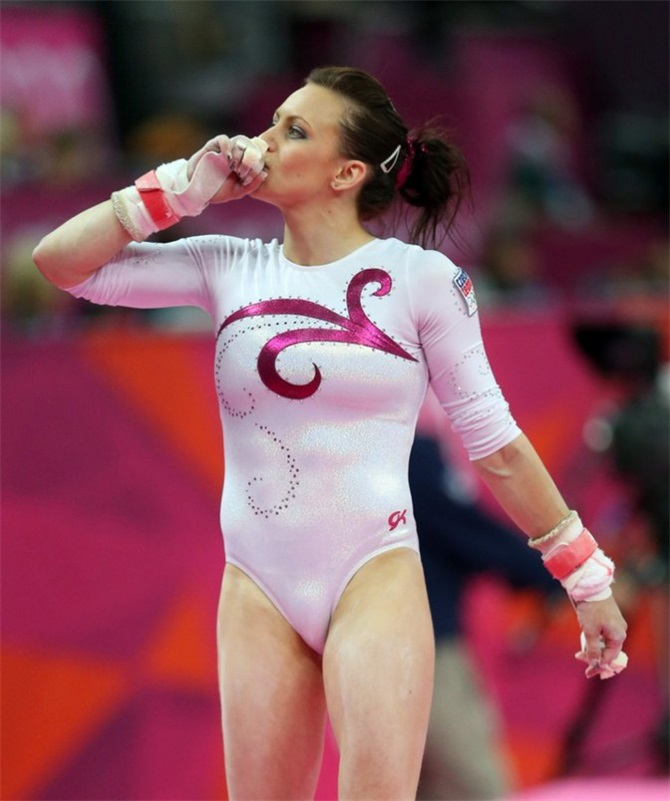face: (245, 81, 338, 198)
